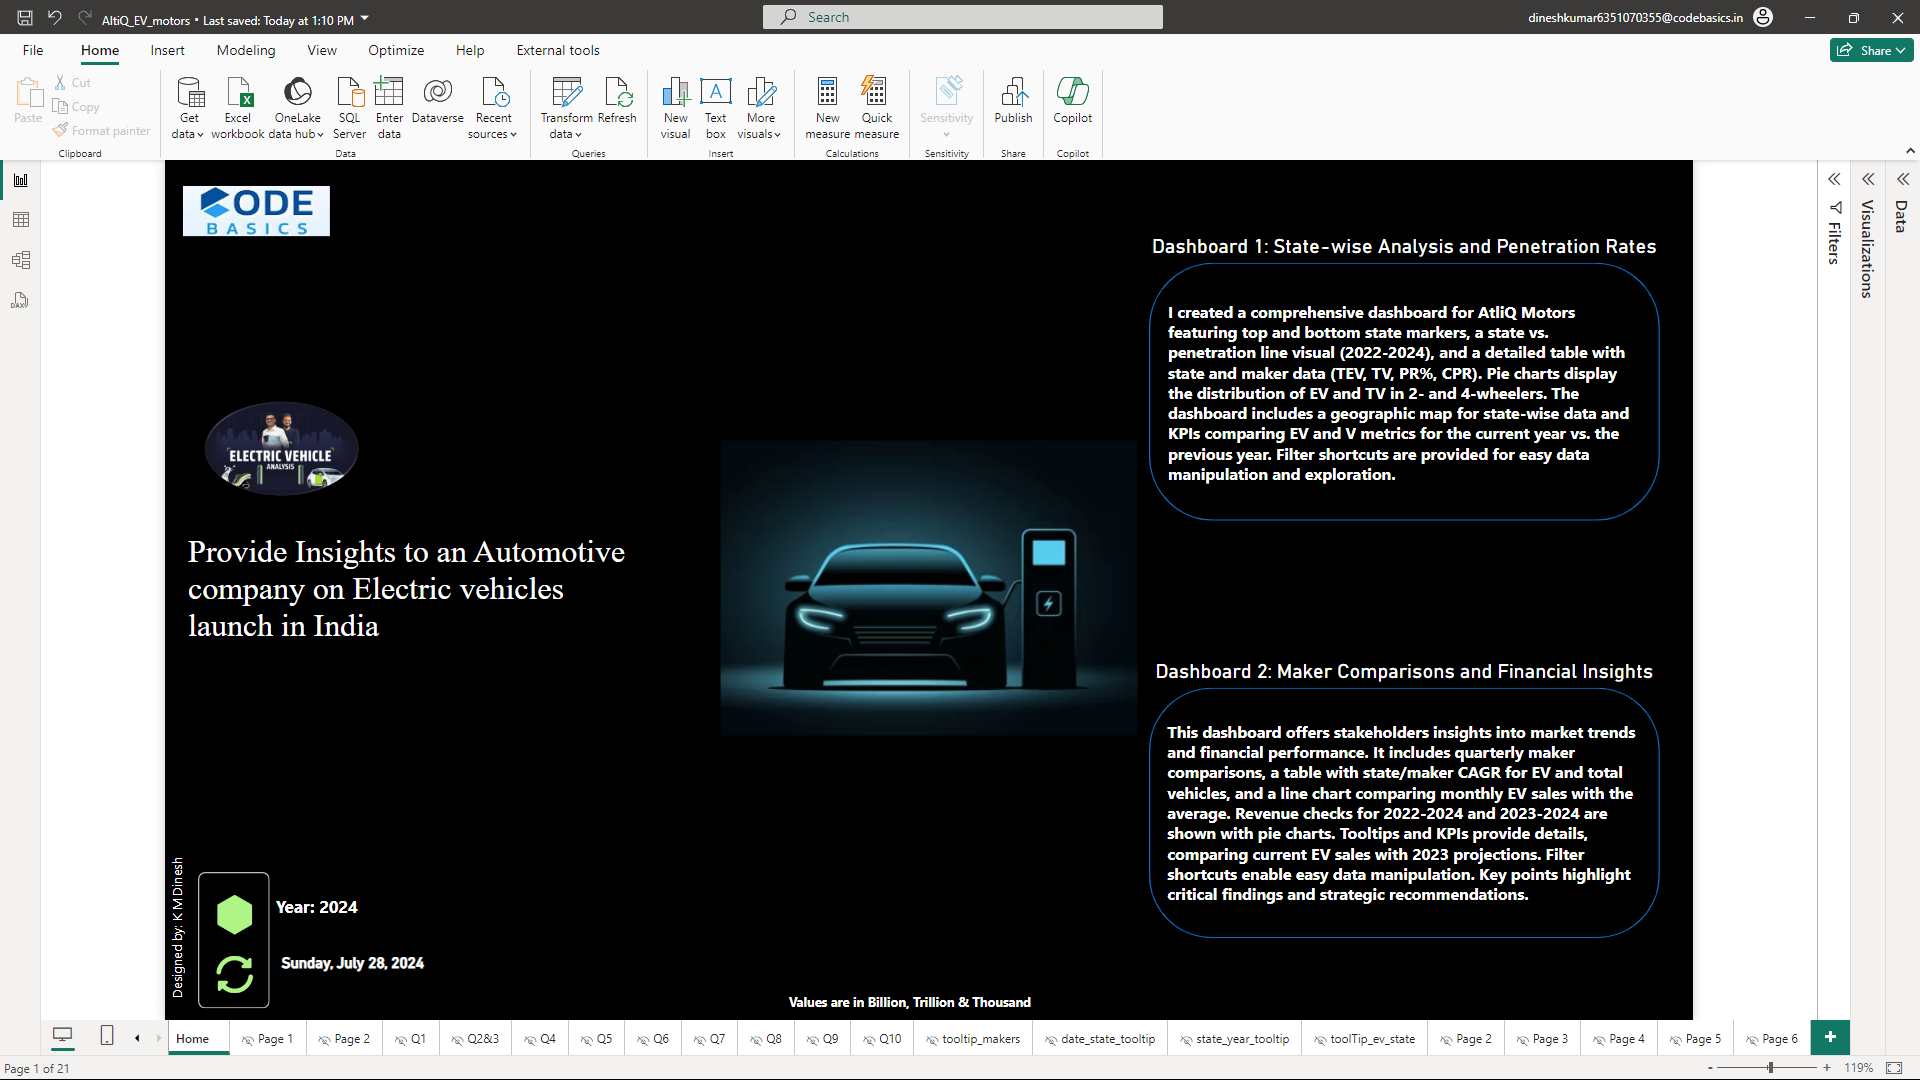

This screenshot's page, from the dashboard's own definition file:
{"tool":"powerbi","page":{"name":"Home","canvas":[1280,720],"ordinal":0},"visuals":[{"type":"shape","box":[27.8,596.5,60,114.3],"z":0},{"type":"shape","box":[19.4,289.1,369.4,141.3],"z":1000},{"type":"image","box":[19.4,193.9,157,145.9],"z":4000},{"type":"image","box":[36.9,661.2,43.4,40.6],"z":5000},{"type":"image","box":[36.9,610.4,43.4,43.4],"z":6000},{"type":"textbox","box":[87.7,610.4,99.7,31.4],"z":7000},{"type":"card","fields":{"Values":["Min(Report_Current_time.Report Last Refreshed)"]},"box":[87.7,653.9,138.5,38.8],"z":8000},{"type":"shape","title":"Dashboard 1: State-wise Analysis and Penetration Rates","box":[823.8,61.9,427.6,240.1],"z":9000},{"type":"shape","title":"Dashboard 2: Maker Comparisons and Financial Insights","box":[823.8,417.4,427.6,233.7],"z":10000},{"type":"actionButton","title":"AB Signature","box":[0,571.7,19.4,148.7],"z":11000},{"type":"shape","box":[522.7,688.9,234.6,31.4],"z":12000},{"type":"image","box":[10.2,16.6,133,51.7],"z":13000}]}

Visuals, with their boxes on the page's 1280x720 design canvas (x1, y1, x2, y2). These are canvas units, not pixel positions in the 1920x1080 screenshot, which may show the page scaled, cropped or inside an application window:
shape: rect(28, 596, 88, 711)
shape: rect(19, 289, 389, 430)
image: rect(19, 194, 176, 340)
image: rect(37, 661, 80, 702)
image: rect(37, 610, 80, 654)
textbox: rect(88, 610, 187, 642)
card - Min(Report_Current_time.Report Last Refreshed): rect(88, 654, 226, 693)
"Dashboard 1: State-wise Analysis and Penetration Rates" shape: rect(824, 62, 1251, 302)
"Dashboard 2: Maker Comparisons and Financial Insights" shape: rect(824, 417, 1251, 651)
"AB Signature" actionButton: rect(0, 572, 19, 720)
shape: rect(523, 689, 757, 720)
image: rect(10, 17, 143, 68)
